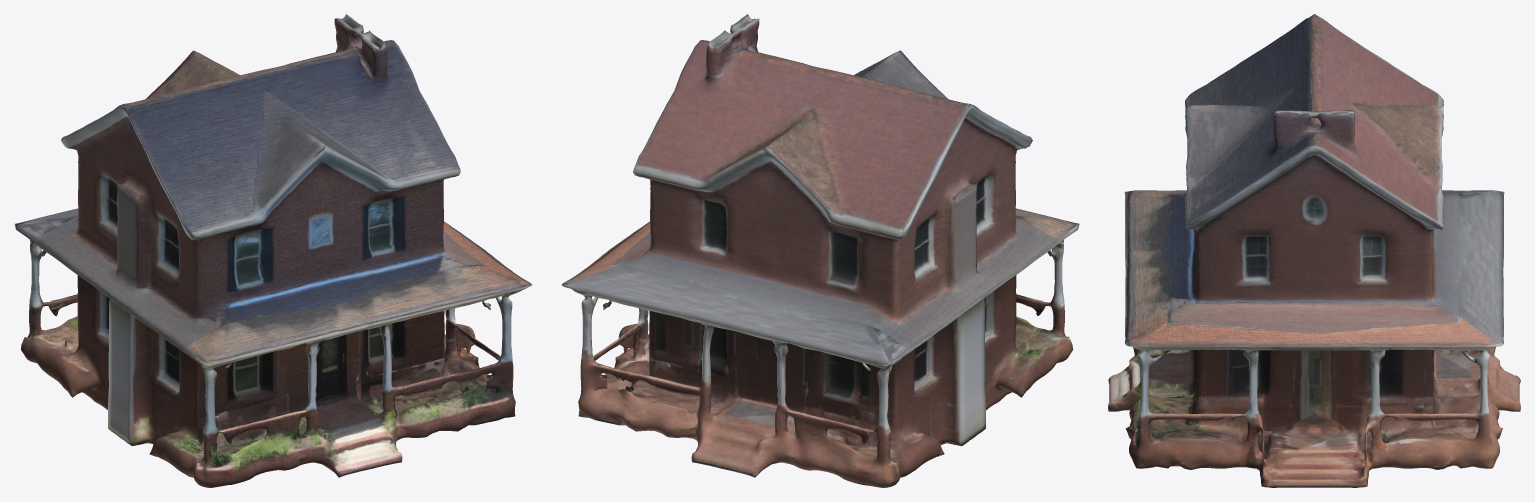
Rendered from brick_house.glb.
The picture shows the model from 3 angles, left to right: view 1: azimuth 30°, elevation 25°; view 2: azimuth 150°, elevation 25°; view 3: azimuth 270°, elevation 25°; orthographic projection. The views are drawn at different scales.
Size of the model in its own units: 1.88 by 1.81 by 1.99.
Materials: 1 (1 with a texture image).
